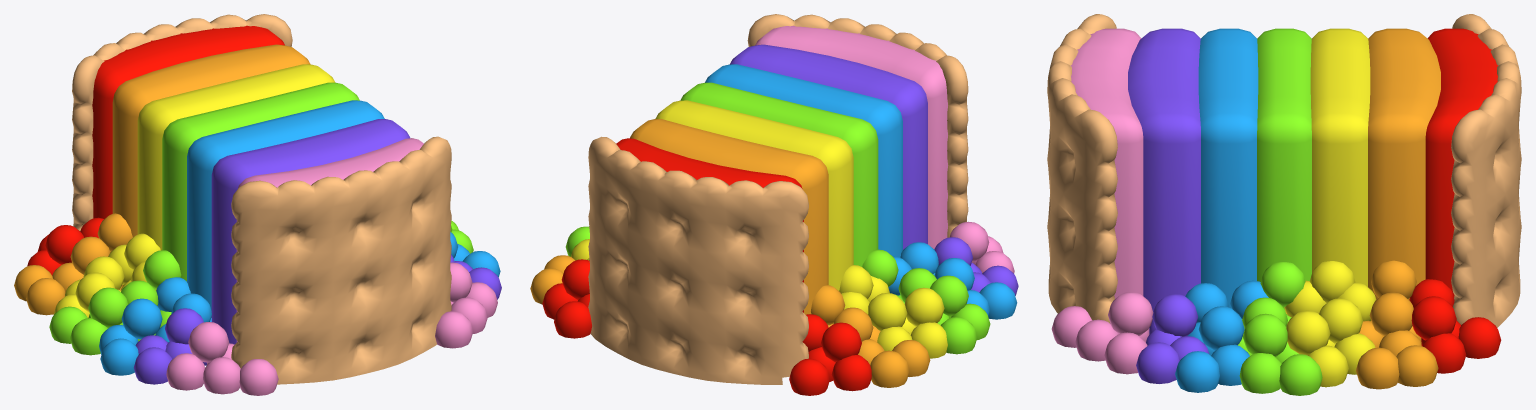
Rendered from Cake_ThemeCandy_A.FBX.
3 views of the same model, side by side, from view 1: azimuth 30°, elevation 25°; view 2: azimuth 150°, elevation 25°; view 3: azimuth 270°, elevation 25° (orthographic). The views are drawn at different scales.
Visible parts, largest first — view 1: Cake_ThemeCandy_A; view 2: Cake_ThemeCandy_A; view 3: Cake_ThemeCandy_A.
Boxes of the visible parts, box(x1,y1,x2,y2) form: Cake_ThemeCandy_A: box(14, 14, 501, 395); Cake_ThemeCandy_A: box(530, 14, 1018, 395); Cake_ThemeCandy_A: box(1047, 14, 1521, 395).
Bounding box in the file's own units: 113742 × 53094 × 102647.
